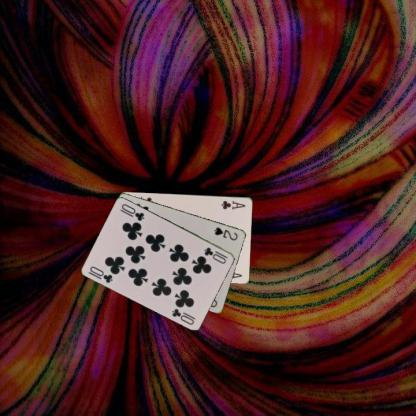10c: (202, 245, 229, 266), (87, 264, 114, 284)
2s: (212, 224, 239, 242)
Ac: (219, 198, 247, 210)
